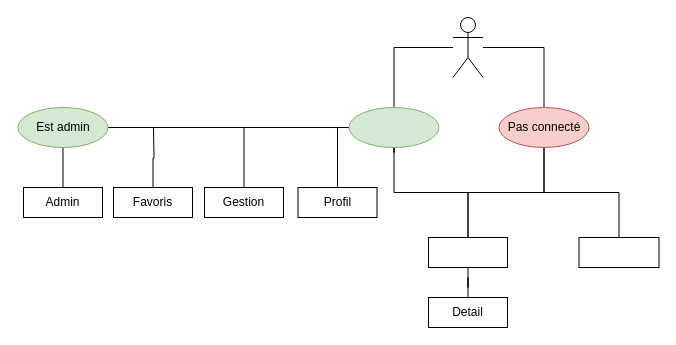
Image size: 676x345. Some labels were removed from this diagram. The shapes that lost their labels are listed below. From the top down, each one's box as (x1, y1, x2, y2) in pixels, then its label:
(452, 16, 483, 78): Utilisateur
(348, 106, 439, 148): connecté
(428, 236, 508, 268): Home
(578, 236, 659, 268): Login/Register
